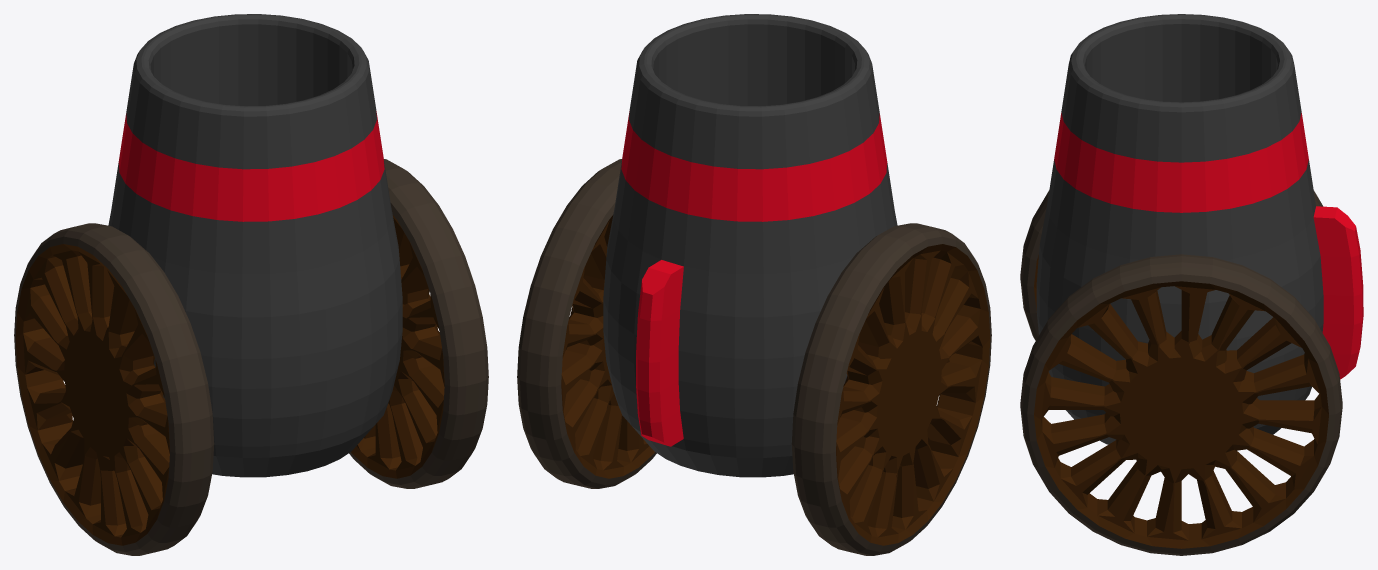
Rendered from endCannon.fbx.
3 renders of one model, left to right at view 1: azimuth 30°, elevation 25°; view 2: azimuth 150°, elevation 25°; view 3: azimuth 270°, elevation 25°, orthographic. The views are drawn at different scales.
Parts seen in each view (by area): view 1: Cannon, Cylinder.018, Cylinder.017; view 2: Cannon, Cylinder.018, Cylinder.017; view 3: Cannon, Cylinder.017, Cylinder.018.
Boxes of the visible parts, bbox=[...] form: Cannon: bbox=[108, 14, 402, 477]; Cylinder.018: bbox=[14, 223, 214, 555]; Cylinder.017: bbox=[349, 159, 488, 488]; Cannon: bbox=[603, 14, 897, 477]; Cylinder.018: bbox=[791, 223, 991, 555]; Cylinder.017: bbox=[517, 159, 656, 488]; Cannon: bbox=[1036, 14, 1363, 444]; Cylinder.017: bbox=[1020, 254, 1342, 555]; Cylinder.018: bbox=[1020, 190, 1323, 340].
Size of the model in its own units: 416 by 561 by 407.
